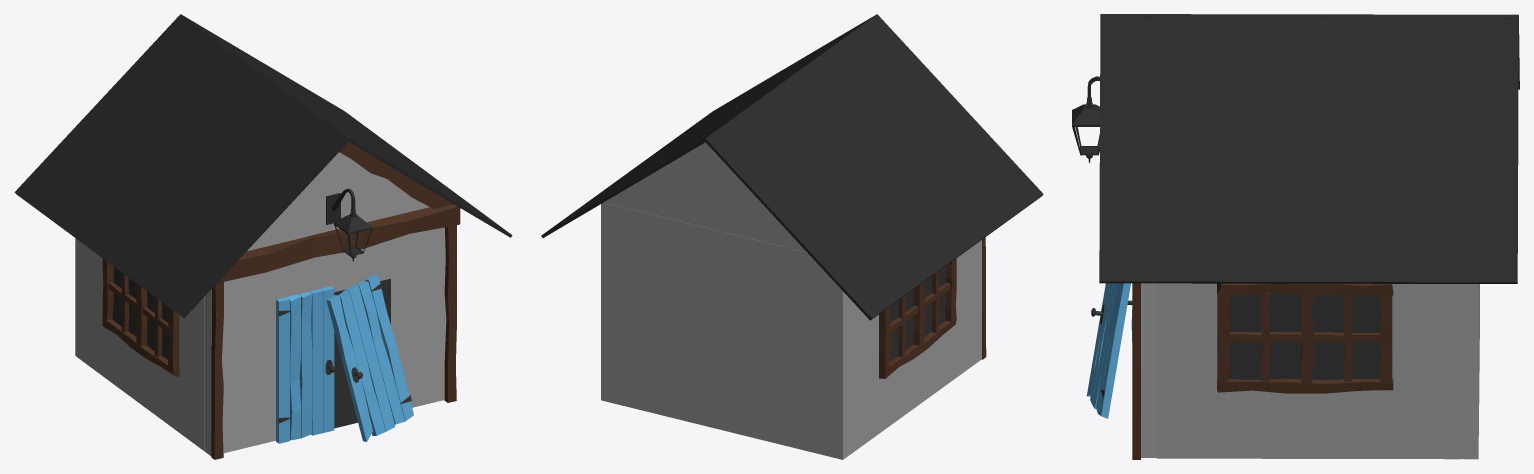
Rendered from Haus3.fbx.
3 renders of one model, left to right at view 1: azimuth 30°, elevation 25°; view 2: azimuth 150°, elevation 25°; view 3: azimuth 270°, elevation 25°, orthographic. The views are drawn at different scales.
Parts seen in each view (by area): view 1: Dach_R, Wand_V, Wand_R, Wand2_V, Dach_L, Fenster5.007, Fenster5.006, Tuer_1, Tuer_5.001, Tuer_4, Fenster5.002, Tuer_4.001 (+14 smaller); view 2: Dach_R, Wand_H, Wand_R, Wand2_H, Dach_L, Fenster_scheibe, Fenster2, Wand_V, Fenster3, Fenster4, Fenster5; view 3: Dach_L, Wand_L, Fenster_scheibe.001, Wand_H, Wand_V, Fenster2.001, Fenster1.001, Dach_R, Fenster5.006, Tuer_1.001, Fenster5.001, Fenster4.005 (+9 smaller).
Part boxes in pixels (x1,y1,x2,y2): Dach_R: [14, 14, 350, 318]; Wand_V: [205, 204, 460, 455]; Wand_R: [82, 243, 204, 451]; Wand2_V: [247, 152, 429, 251]; Dach_L: [184, 16, 512, 237]; Fenster5.007: [211, 282, 223, 459]; Fenster5.006: [444, 225, 456, 402]; Tuer_1: [276, 297, 289, 443]; Tuer_5.001: [326, 295, 372, 441]; Tuer_4: [309, 289, 323, 435]; Fenster5.002: [339, 142, 453, 208]; Tuer_4.001: [338, 290, 385, 435]; Dach_R: [703, 14, 1043, 320]; Wand_H: [601, 202, 849, 459]; Wand_R: [850, 245, 975, 454]; Wand2_H: [604, 142, 806, 252]; Dach_L: [541, 16, 873, 237]; Fenster_scheibe: [889, 266, 946, 361]; Fenster2: [879, 318, 956, 378]; Wand_V: [975, 240, 981, 363]; Fenster3: [879, 306, 890, 370]; Fenster4: [913, 282, 924, 345]; Fenster5: [945, 258, 956, 322]; Dach_L: [1099, 17, 1518, 283]; Wand_L: [1156, 283, 1460, 459]; Fenster_scheibe.001: [1228, 292, 1381, 380]; Wand_H: [1461, 284, 1479, 459]; Wand_V: [1141, 283, 1156, 457]; Fenster2.001: [1217, 378, 1393, 393]; Fenster1.001: [1217, 283, 1393, 295]; Dach_R: [1100, 14, 1519, 89]; Fenster5.006: [1132, 283, 1140, 459]; Tuer_1.001: [1098, 283, 1130, 418]; Fenster5.001: [1379, 295, 1392, 382]; Fenster4.005: [1301, 295, 1313, 382].
Size of the model in its own units: 311 by 273 by 295.
